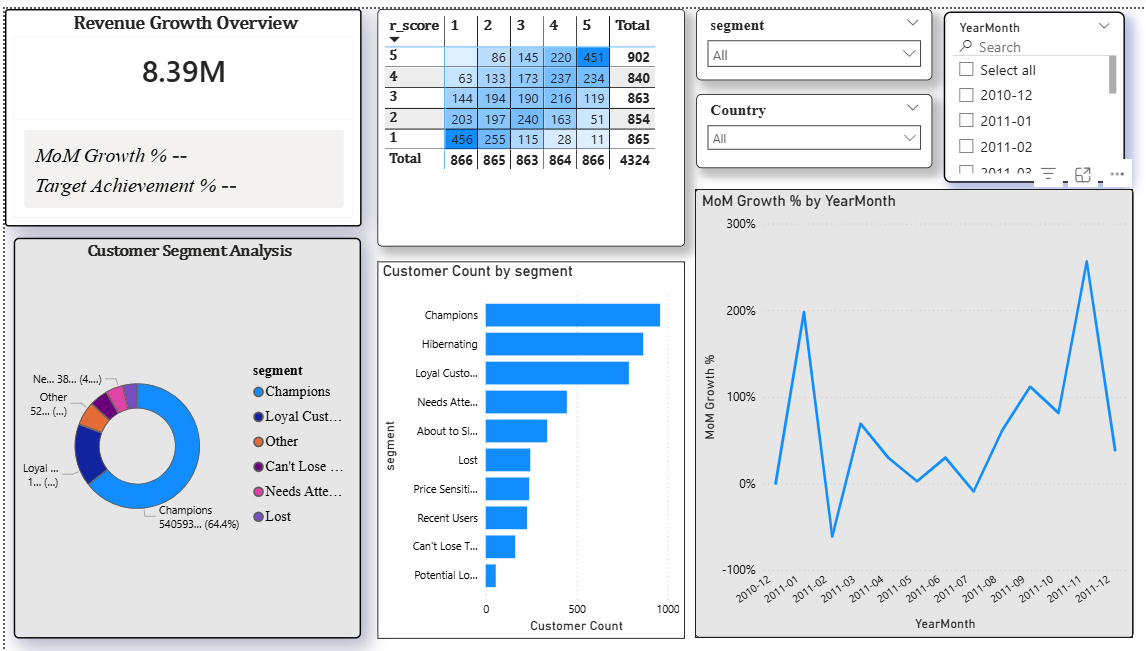

This screenshot's page, from the dashboard's own definition file:
{"tool":"powerbi","page":{"name":"Page 1","canvas":[1280,720],"ordinal":0},"visuals":[{"type":"slicer","fields":{"Values":["DateTable.YearMonth"]},"box":[1076.9,209.4,203.6,245.2],"z":0},{"type":"cardVisual","title":"Revenue Growth Overview","fields":{"Data":["rfm_customer_segments.Total Revenue"]},"box":[0,0,344.5,194.3],"z":1000},{"type":"cardVisual","title":"RevenueTarget Status","fields":{"Data":["rfm_customer_segments.Total Revenue"]},"box":[357.6,0,404.1,191.9],"z":2000},{"type":"donutChart","title":"Customer Segment Analysis","fields":{"Category":["rfm_customer_segments.segment"],"Y":["rfm_customer_segments.Total Revenue"]},"box":[771.2,0,293.2,194.3],"z":3000},{"type":"pivotTable","fields":{"Rows":["rfm_customer_segments.r_score"],"Columns":["rfm_customer_segments.f_score"],"Values":["rfm_customer_segments.Customer Count","rfm_customer_segments.Total Revenue"]},"box":[8.1,209.4,1057.2,245.2],"z":3001},{"type":"slicer","fields":{"Values":["rfm_customer_segments.segment"]},"box":[1087.3,16.2,175.8,79.8],"z":3002},{"type":"slicer","fields":{"Values":["rfm_customer_segments.Country"]},"box":[1087.3,111,175.8,83.3],"z":3003}]}

Visuals, with their boxes in screenshot pixels (x1, y1, x2, y2):
slicer - DateTable.YearMonth: (951,188,1131,404)
"Revenue Growth Overview" cardVisual: (0,3,304,175)
"RevenueTarget Status" cardVisual: (316,3,673,172)
"Customer Segment Analysis" donutChart: (681,3,940,175)
pivotTable - rfm_customer_segments.r_score x rfm_customer_segments.f_score: (7,188,941,404)
slicer - rfm_customer_segments.segment: (960,17,1115,88)
slicer - rfm_customer_segments.Country: (960,101,1115,175)
